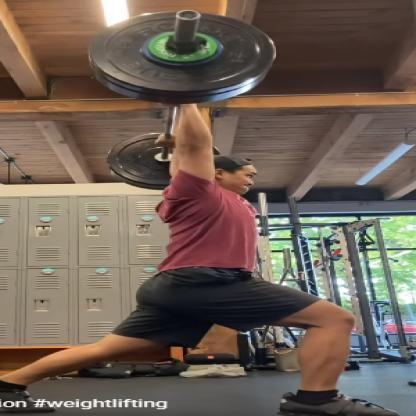barbell: (88, 7, 278, 190)
